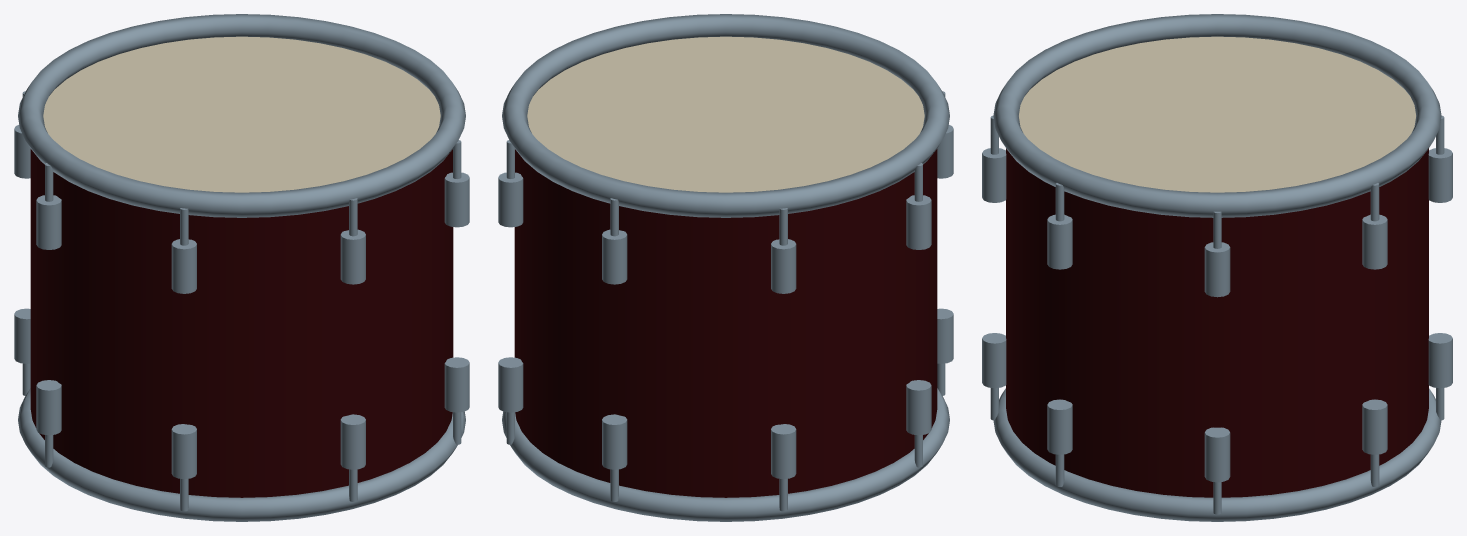
Rendered from Tom2.obj.
The picture shows the model from 3 angles, left to right: view 1: azimuth 30°, elevation 25°; view 2: azimuth 150°, elevation 25°; view 3: azimuth 270°, elevation 25°; orthographic projection.
Parts seen in each view (by area): view 1: Tom2_shell.001; view 2: Tom2_shell.001; view 3: Tom2_shell.001.
Boxes of the visible parts, x1=… form: Tom2_shell.001: x1=14, y1=14, x2=469, y2=521; Tom2_shell.001: x1=498, y1=14, x2=953, y2=521; Tom2_shell.001: x1=982, y1=14, x2=1452, y2=521.
Size of the model in its own units: 0.334 by 0.2536 by 0.334.
